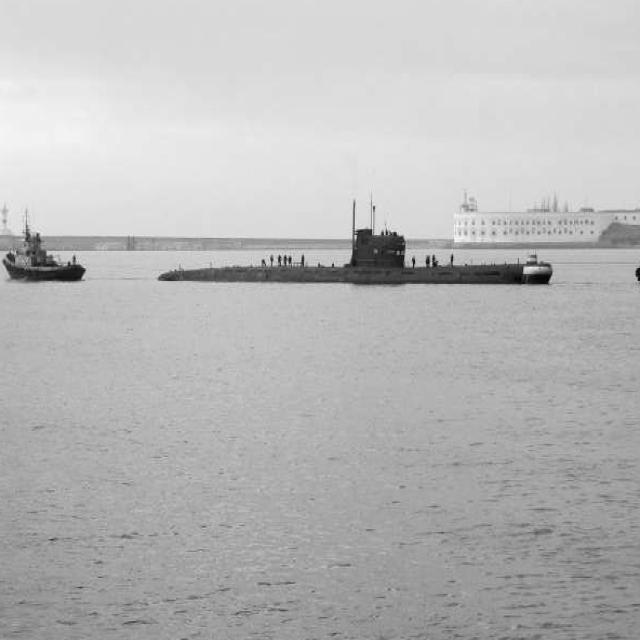submarine: (159, 194, 551, 281)
